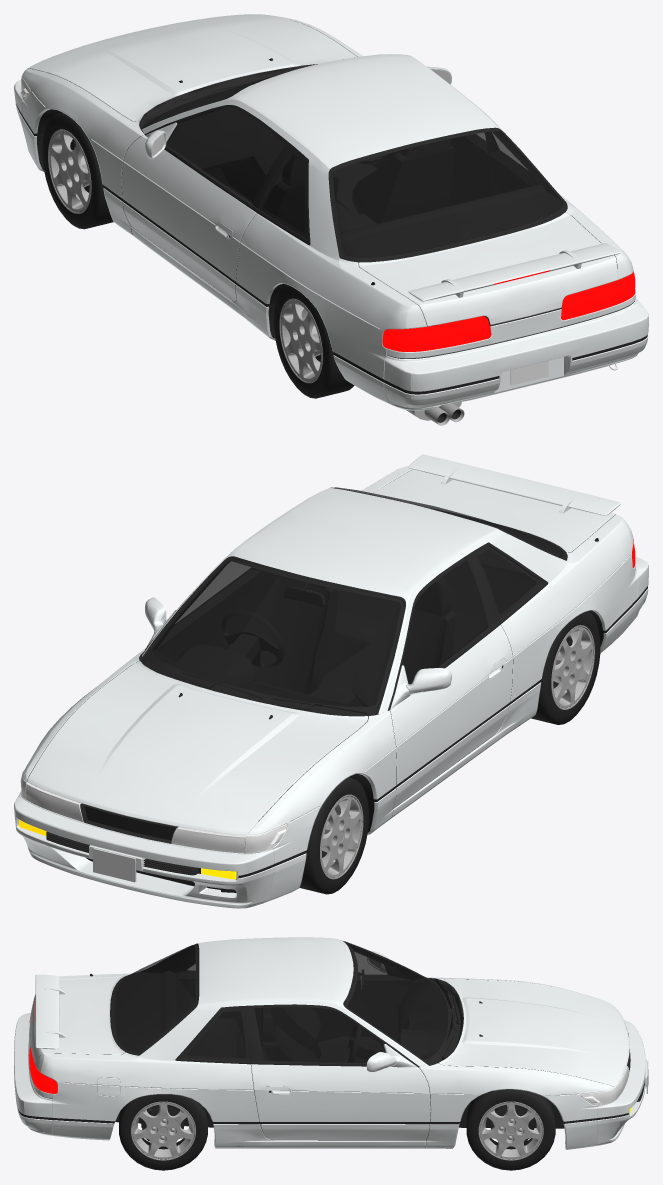
3 views of the same model, one above another, from view 1: azimuth 30°, elevation 25°; view 2: azimuth 150°, elevation 25°; view 3: azimuth 270°, elevation 25° (orthographic). The views are drawn at different scales.
Parts seen in each view (by area): view 1: Nissan Silvia S13, Front Left Wheel, Rear Wheels; view 2: Nissan Silvia S13, Front Left Wheel, Rear Wheels; view 3: Nissan Silvia S13, Front Right Wheel, Rear Wheels.
Part boxes in pixels (box(x1,y1,x2,y2)): Nissan Silvia S13: box(14, 14, 648, 425); Front Left Wheel: box(42, 112, 113, 229); Rear Wheels: box(273, 284, 354, 398); Nissan Silvia S13: box(14, 454, 648, 908); Front Left Wheel: box(299, 777, 368, 894); Rear Wheels: box(531, 611, 600, 724); Nissan Silvia S13: box(14, 937, 648, 1149); Front Right Wheel: box(466, 1089, 555, 1170); Rear Wheels: box(119, 1094, 207, 1170).
Size of the model in its own units: 83.45 by 55.09 by 201.
